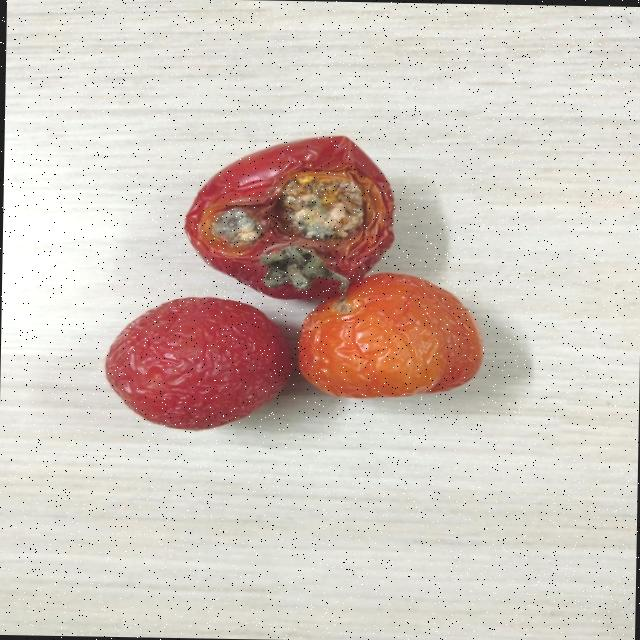Rotten: (179, 130, 394, 300)
overripe: (102, 290, 288, 430)
